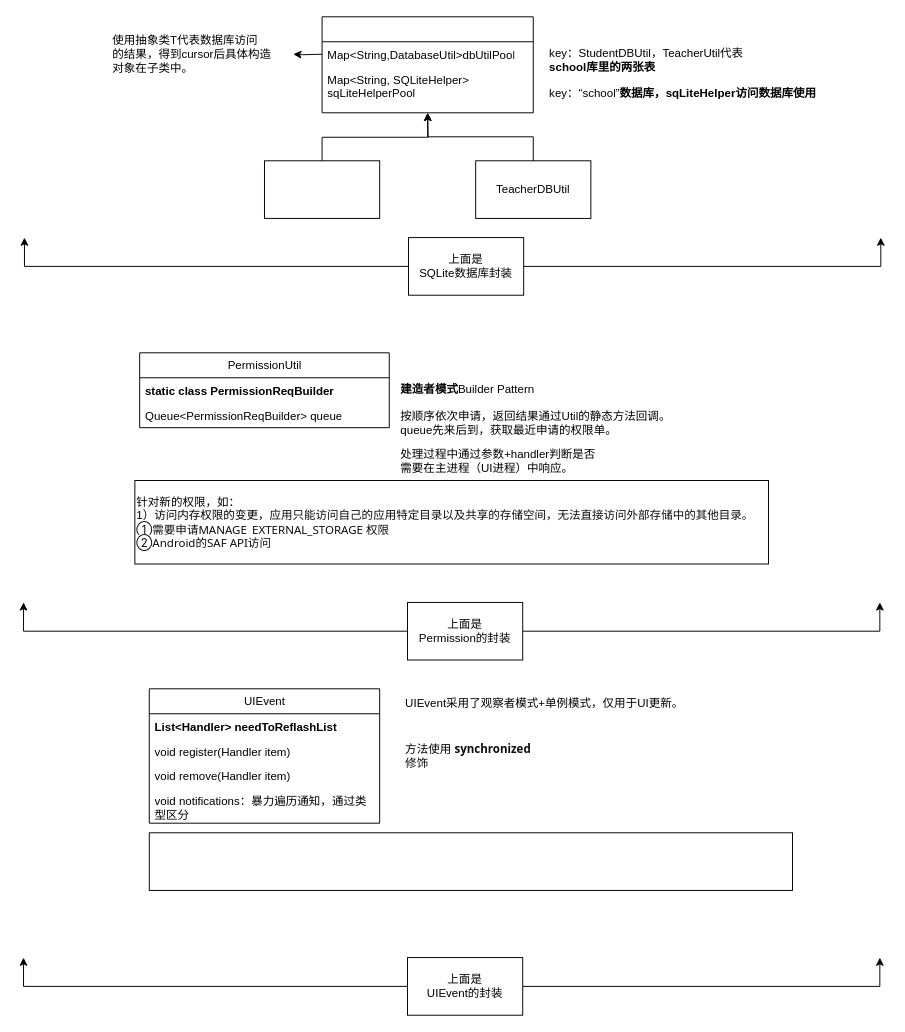
This 905x1032 diagram has some shape labels left out. The box of each missing label's shape, as (x1, y1, x2, y2) in pixels:
abstract DatabaseUtil: (321, 16, 533, 113)
StudentDBUtil: (264, 160, 380, 218)
可优化项： 1.可以采用映射方式增加解耦能力； 2.可以增加类型字段，减少通知数量。: (148, 832, 792, 890)
